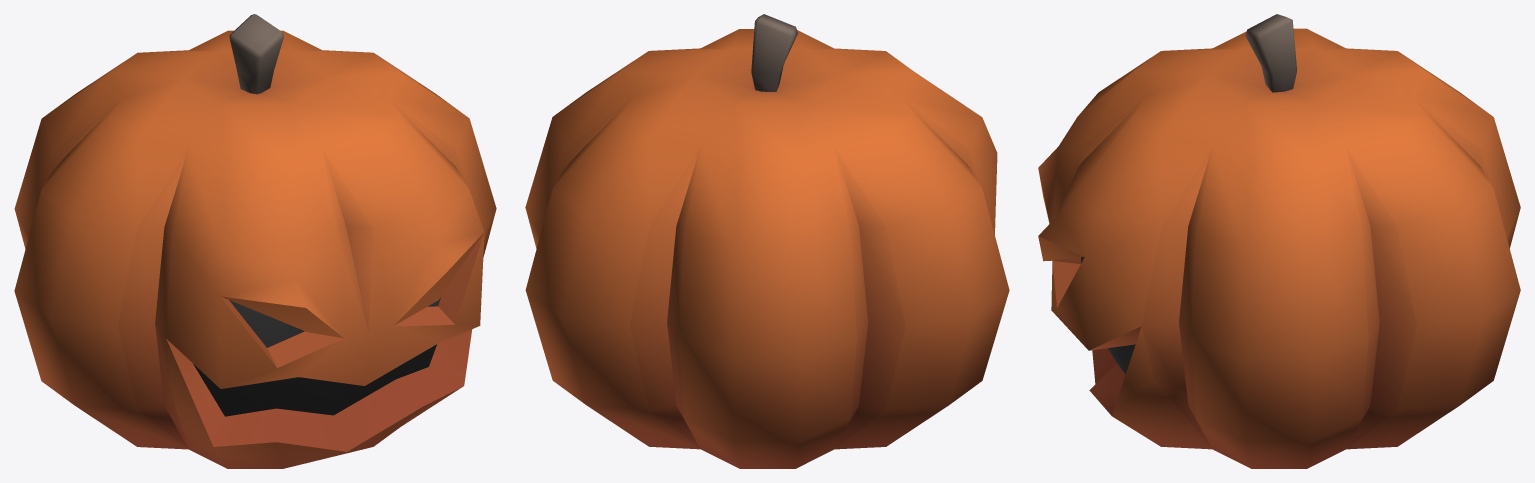
File: pumpkinKit.glb
3 views of the same model, side by side, from view 1: azimuth 30°, elevation 25°; view 2: azimuth 150°, elevation 25°; view 3: azimuth 270°, elevation 25° (orthographic).
Visible parts, largest first — view 1: pumpkin_orange_jackolantern; view 2: pumpkin_orange_jackolantern; view 3: pumpkin_orange_jackolantern.
Part boxes in pixels (<box>): pumpkin_orange_jackolantern: <box>14,14,496,468</box>; pumpkin_orange_jackolantern: <box>525,14,1009,468</box>; pumpkin_orange_jackolantern: <box>1038,14,1520,468</box>.
Size of the model in its own units: 1.5 by 1.3 by 1.4.
1 material, 1 textured.
